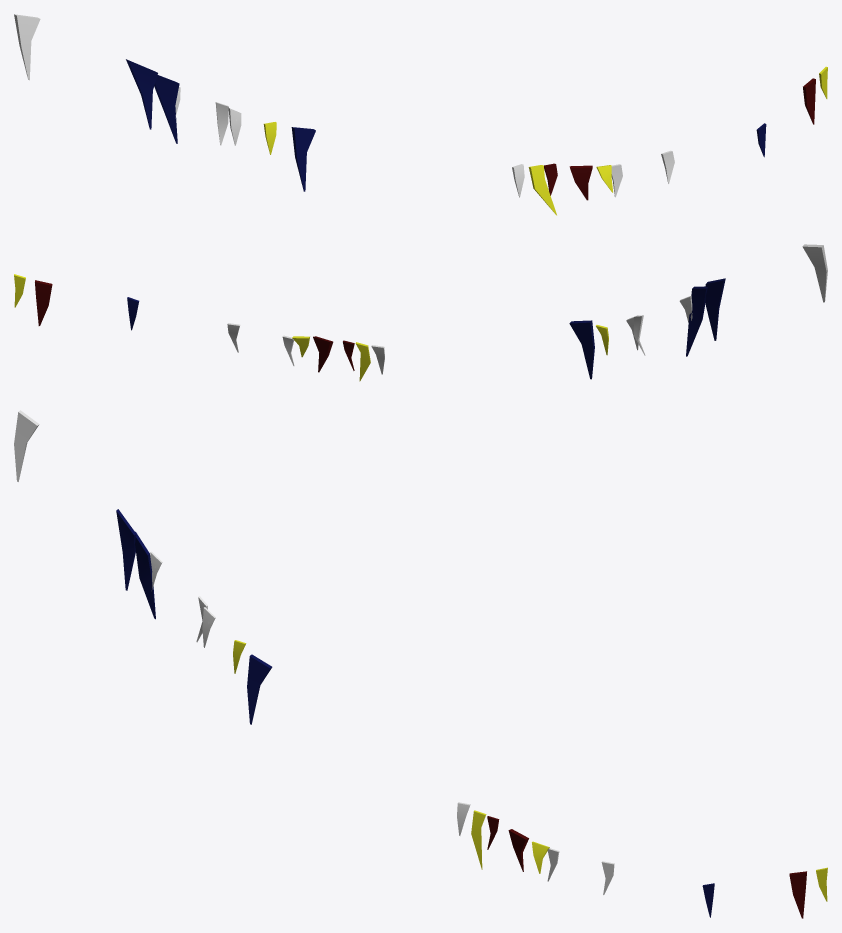
3 views of the same model, one above another, from view 1: azimuth 30°, elevation 25°; view 2: azimuth 150°, elevation 25°; view 3: azimuth 330°, elevation 25° (orthographic). The views are drawn at different scales.
Parts seen in each view (by area): view 1: Box168, Box167, Box152, Box151, Box148, Box149, Box140, Box170; view 2: Box168, Box151, Box167, Box152, Box140, Box149, Box148; view 3: no part large enough to name.
Boxes of the visible parts, x1,y1,x2,y2 form: Box168: (154,75,179,143); Box167: (126,59,157,129); Box152: (14,14,40,80); Box151: (291,127,315,191); Box148: (528,165,556,215); Box149: (569,165,592,200); Box140: (803,78,815,124); Box170: (215,102,228,145); Box168: (686,286,707,356); Box151: (569,320,594,379); Box167: (705,278,725,340); Box152: (802,244,827,302); Box140: (35,280,52,325); Box149: (313,336,333,372); Box148: (355,342,370,381).
Size of the model in its own units: 3118 by 1071 by 336.
